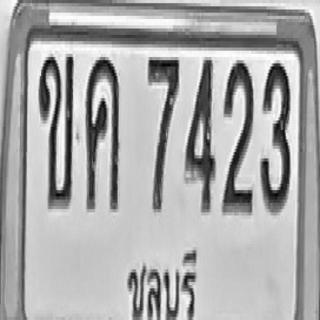A02: (38, 54, 74, 209)
A04: (85, 55, 119, 211)
N02: (222, 59, 253, 214)
N03: (260, 60, 290, 212)
N04: (185, 57, 215, 212)
N07: (147, 54, 179, 212)
P13: (123, 245, 200, 320)
